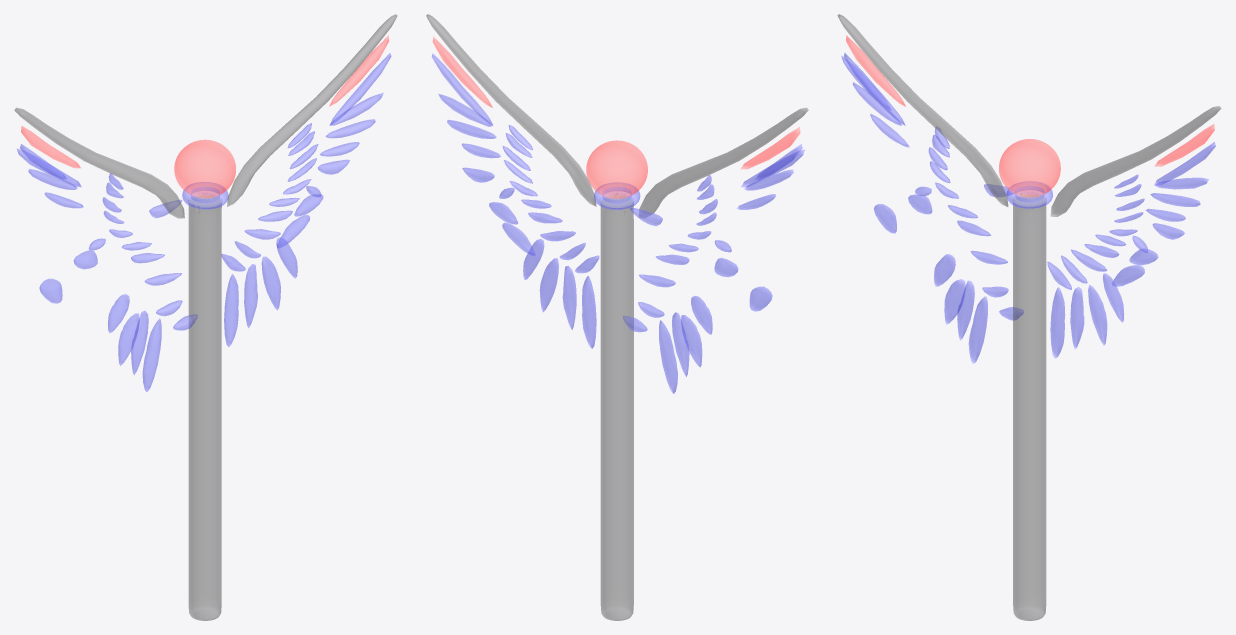
File: scepter.FBX
The picture shows the model from 3 angles, left to right: view 1: azimuth 30°, elevation 25°; view 2: azimuth 150°, elevation 25°; view 3: azimuth 330°, elevation 25°; orthographic projection.
Visible parts, largest first — view 1: Cylinder001, Plane003, Plane050, Plane043, Plane016, Plane004, Plane005, Plane044, Plane015, Plane048, Plane014, Plane047 (+1 smaller); view 2: Cylinder001, Plane003, Plane050, Plane016, Plane043, Plane004, Plane005, Plane015, Plane044, Plane047, Plane048, Plane014 (+1 smaller); view 3: Cylinder001, Plane050, Plane003, Plane016, Plane043, Plane047, Plane046, Plane014, Plane015, Plane004, Plane044, Plane048 (+3 smaller).
Boxes of the visible parts, x1,y1,x2,y2 form: Cylinder001: [174, 139, 235, 620]; Plane003: [227, 14, 397, 206]; Plane050: [14, 107, 184, 218]; Plane043: [142, 318, 161, 391]; Plane016: [224, 274, 238, 346]; Plane004: [329, 35, 388, 106]; Plane005: [329, 53, 391, 125]; Plane044: [131, 311, 148, 374]; Plane015: [244, 264, 257, 327]; Plane048: [118, 313, 139, 365]; Plane014: [261, 256, 280, 310]; Plane047: [21, 126, 80, 168]; Cylinder001: [586, 140, 647, 620]; Plane003: [426, 14, 596, 206]; Plane050: [639, 107, 808, 217]; Plane016: [582, 276, 596, 348]; Plane043: [659, 320, 677, 393]; Plane004: [432, 36, 492, 107]; Plane005: [432, 53, 492, 125]; Plane015: [562, 266, 576, 329]; Plane044: [672, 312, 689, 376]; Plane047: [741, 127, 800, 169]; Plane048: [681, 315, 702, 367]; Plane014: [539, 258, 558, 311]; Cylinder001: [999, 139, 1060, 620]; Plane050: [837, 14, 1008, 206]; Plane003: [1050, 106, 1221, 216]; Plane016: [1050, 287, 1065, 358]; Plane043: [968, 296, 987, 363]; Plane047: [846, 35, 905, 106]; Plane046: [843, 53, 905, 125]; Plane014: [1088, 284, 1107, 345]; Plane015: [1070, 287, 1084, 349]; Plane004: [1154, 124, 1214, 166]; Plane044: [957, 280, 974, 340]; Plane048: [944, 279, 965, 324].
Bounding box in the file's own units: 52.64 × 72.81 × 7.4.
